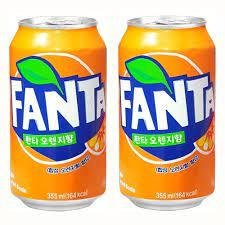fanta_orange: (113, 15, 221, 210), (8, 16, 108, 212)
